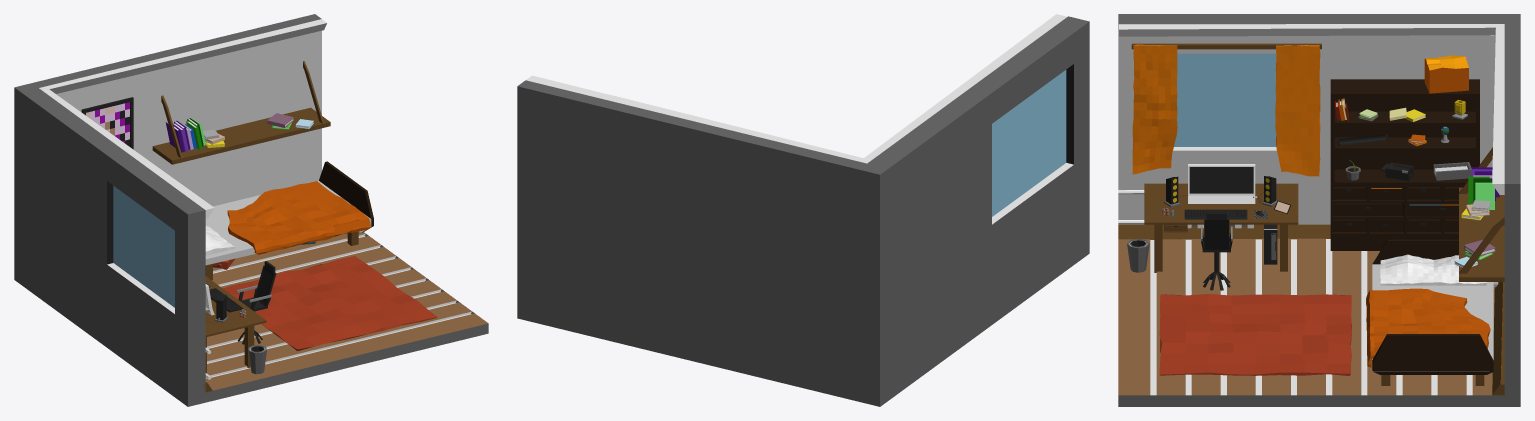
The model's file is main_room.glb.
3 views of the same model, side by side, from view 1: azimuth 30°, elevation 25°; view 2: azimuth 150°, elevation 25°; view 3: azimuth 270°, elevation 25° (orthographic). The views are drawn at different scales.
Visible parts, largest first — view 1: Plane_Material_0.3390, Plane_Material_0.3391, Plane_Material_0.3389, Plane_Material_0.3393, Plane_Material_0.3564, Plane_Material_0.5403, Plane_Material_0.4250, Plane_Material_0.5446, Plane_Material_0.5389, Plane_Material_0.3392, Plane_Material_0.5449, Plane_Material_0.5450 (+13 smaller); view 2: Plane_Material_0.3388, Plane_Material_0.3390, Plane_Material_0.3393, Plane_Material_0.3564, Plane_Material_0.5449, Plane_Material_0.5450, Plane_Material_0.3558, Plane_Material_0.3557; view 3: Plane_Material_0.3556, Plane_Material_0.3563, Plane_Material_0.3387, Plane_Material_0.3393, Plane_Material_0.1193, Plane_Material_0.5403, Plane_Material_0.5288, Plane_Material_0.5447, Plane_Material_0.5464, Plane_Material_0.5388, Plane_Material_0.3392, Plane_Material_0.4250 (+53 smaller).
Part boxes in pixels (bbox=[...]): Plane_Material_0.3390: bbox=[14, 87, 187, 406]; Plane_Material_0.3391: bbox=[56, 30, 321, 206]; Plane_Material_0.3389: bbox=[188, 210, 488, 406]; Plane_Material_0.3393: bbox=[14, 14, 321, 214]; Plane_Material_0.3564: bbox=[113, 186, 174, 307]; Plane_Material_0.5403: bbox=[205, 313, 488, 390]; Plane_Material_0.4250: bbox=[153, 107, 329, 160]; Plane_Material_0.5446: bbox=[49, 23, 326, 93]; Plane_Material_0.5389: bbox=[212, 235, 380, 284]; Plane_Material_0.3392: bbox=[207, 302, 471, 375]; Plane_Material_0.5449: bbox=[39, 19, 326, 89]; Plane_Material_0.5450: bbox=[39, 88, 214, 209]; Plane_Material_0.3388: bbox=[517, 86, 879, 406]; Plane_Material_0.3390: bbox=[880, 21, 1089, 406]; Plane_Material_0.3393: bbox=[518, 16, 1088, 174]; Plane_Material_0.3564: bbox=[992, 70, 1066, 216]; Plane_Material_0.5449: bbox=[526, 75, 866, 163]; Plane_Material_0.5450: bbox=[864, 14, 1067, 163]; Plane_Material_0.3558: bbox=[1066, 64, 1073, 164]; Plane_Material_0.3557: bbox=[992, 163, 1073, 224]; Plane_Material_0.3556: bbox=[1118, 24, 1495, 224]; Plane_Material_0.3563: bbox=[1174, 53, 1276, 146]; Plane_Material_0.3387: bbox=[1118, 184, 1520, 406]; Plane_Material_0.3393: bbox=[1118, 14, 1520, 183]; Plane_Material_0.1193: bbox=[1334, 97, 1475, 169]; Plane_Material_0.5403: bbox=[1118, 239, 1150, 395]; Plane_Material_0.5288: bbox=[1373, 335, 1493, 362]; Plane_Material_0.5447: bbox=[1119, 27, 1495, 36]; Plane_Material_0.5464: bbox=[1144, 183, 1297, 222]; Plane_Material_0.5388: bbox=[1332, 251, 1360, 395]; Plane_Material_0.3392: bbox=[1156, 239, 1185, 395]; Plane_Material_0.4250: bbox=[1459, 187, 1504, 277].
Bounding box in the file's own units: 400 × 245 × 400.
Materials: 1 (1 with a texture image).
